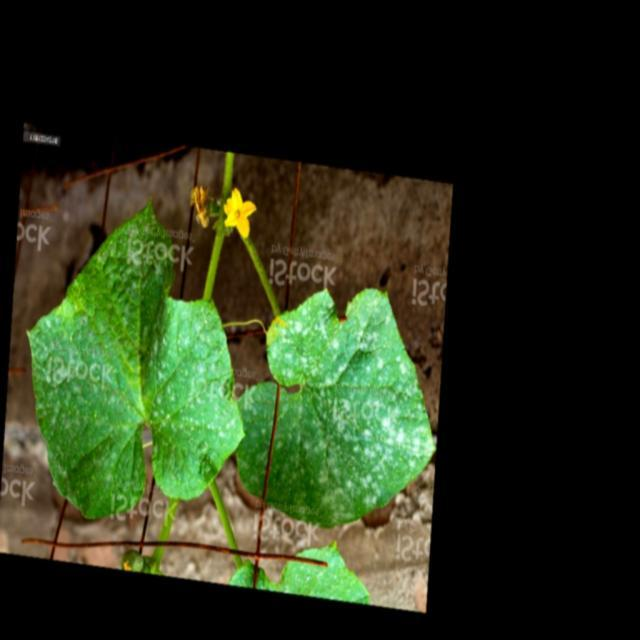Leaf_Mold: (28, 197, 242, 521), (241, 278, 432, 534)
